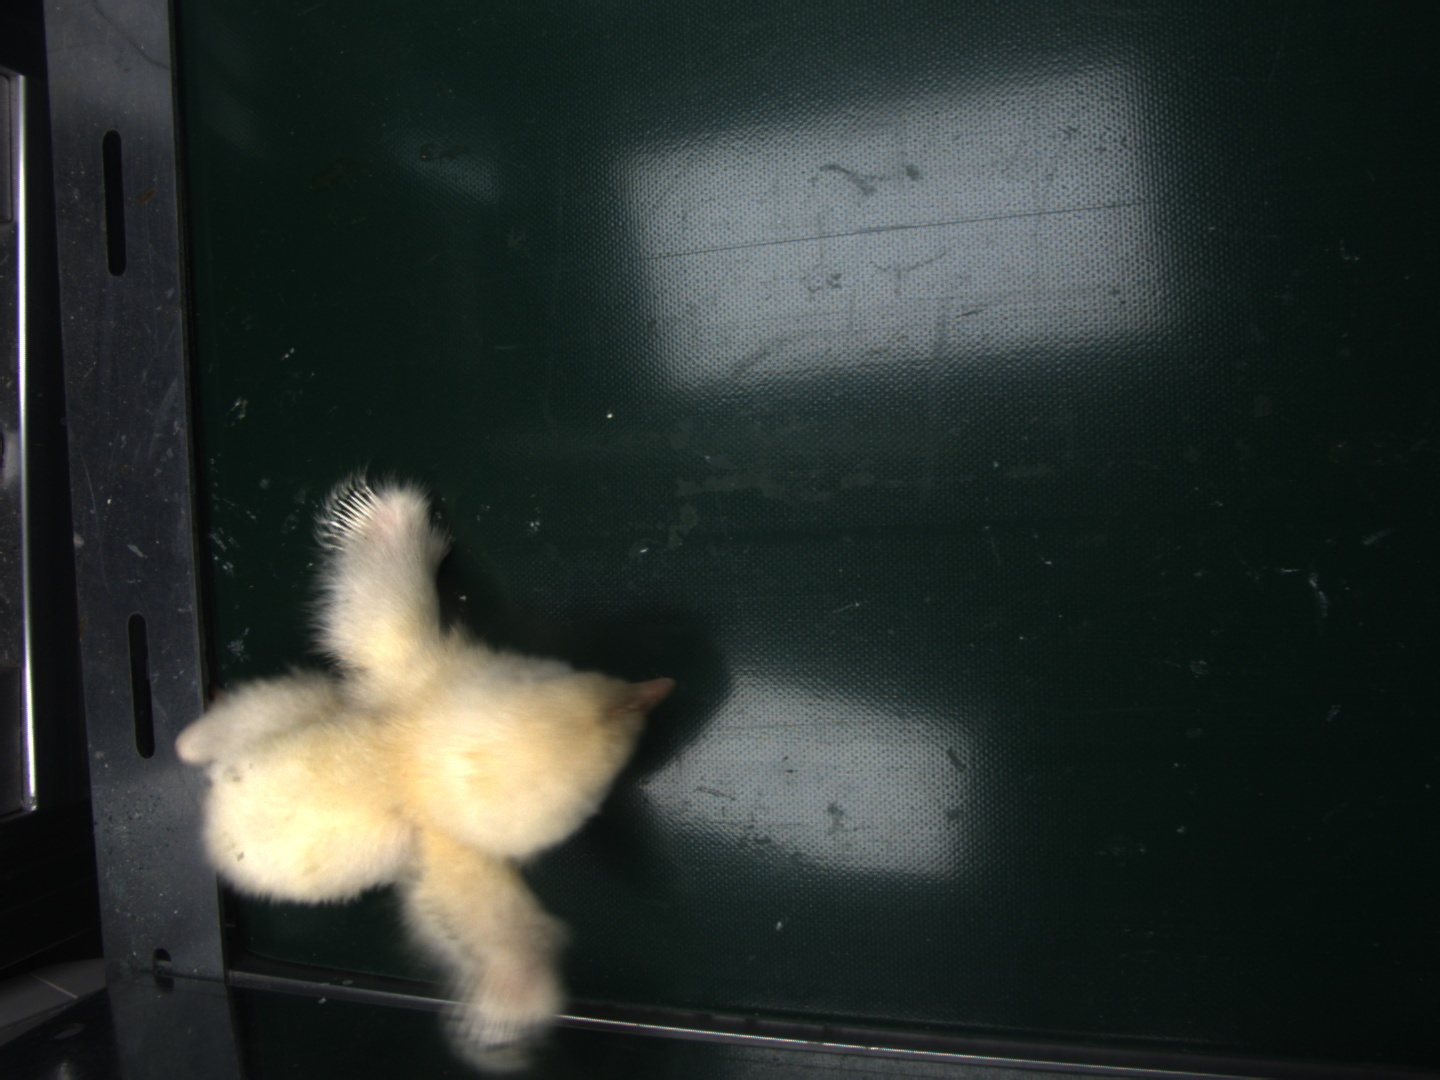male: (331, 482, 384, 542)
